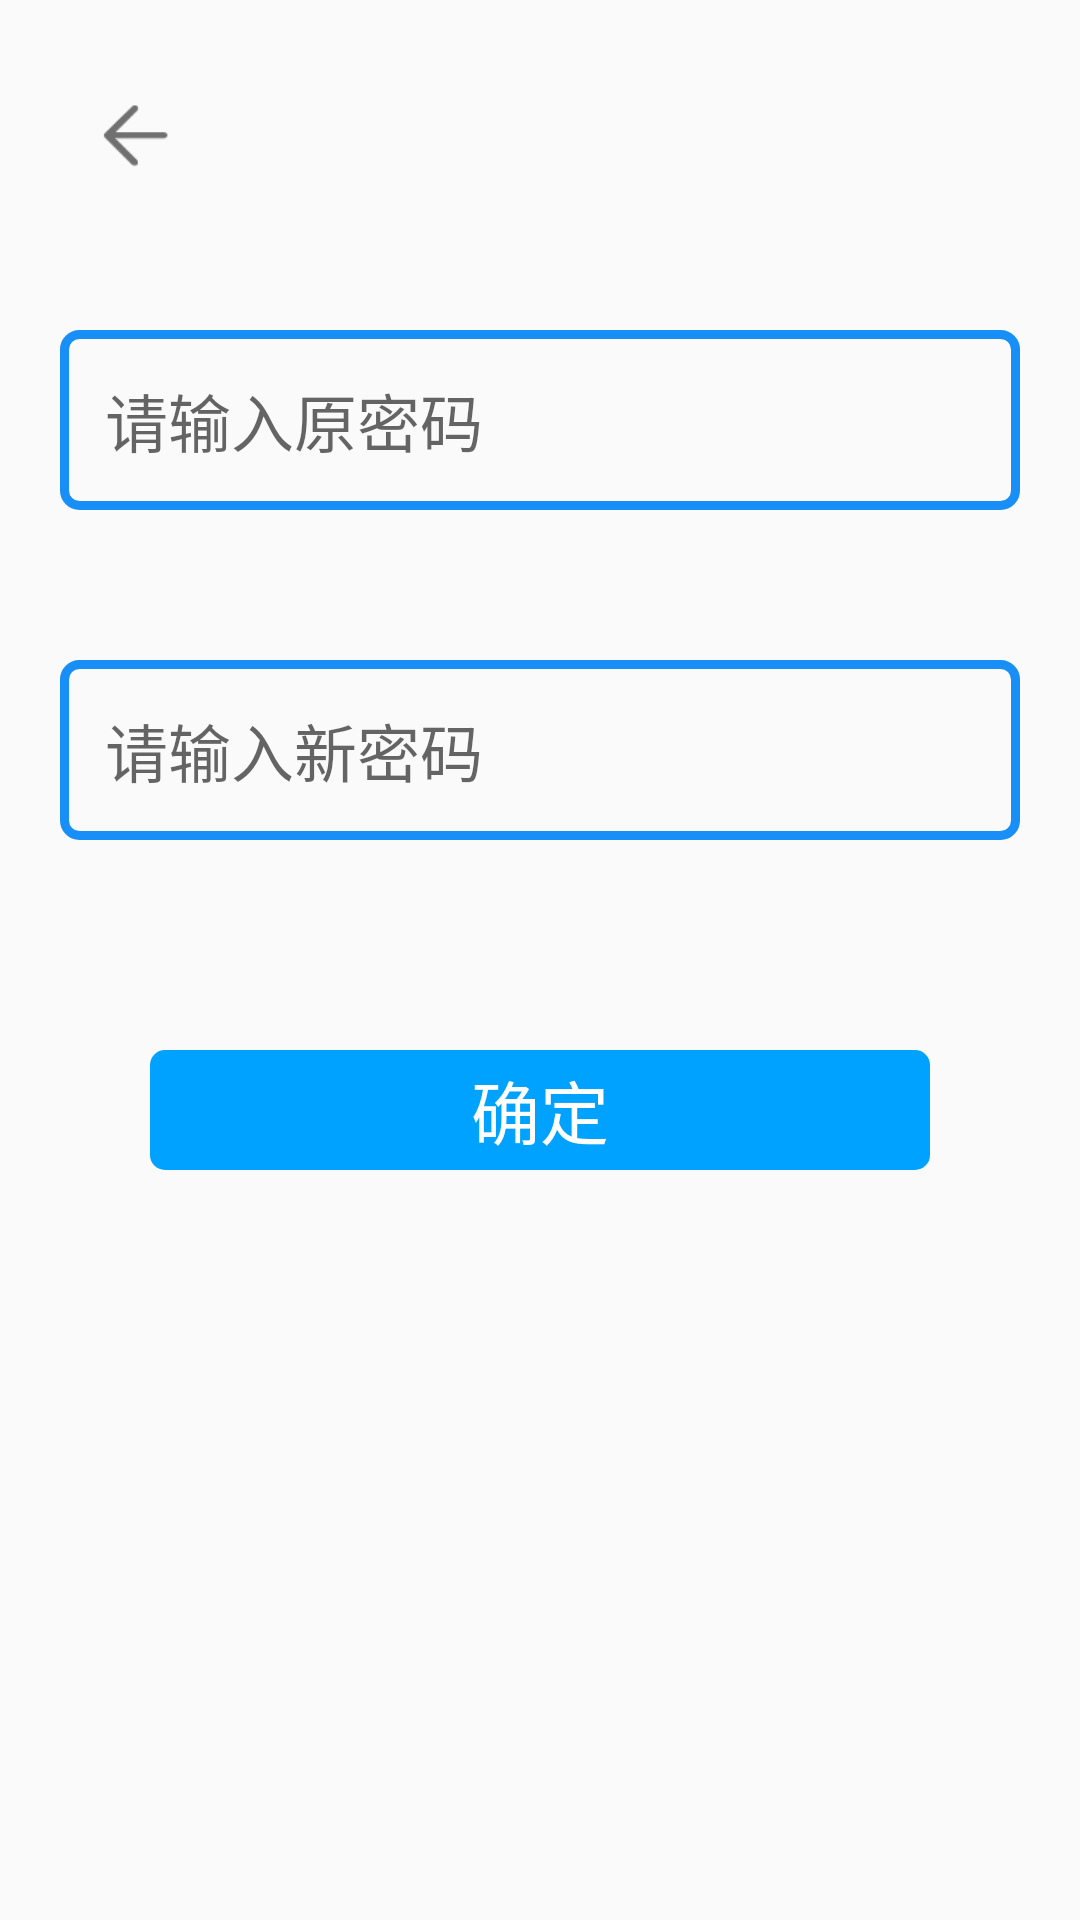

Named icons in this screenshot (1080 x 1920) and their centers, [x,y]:
back: [136,135]
